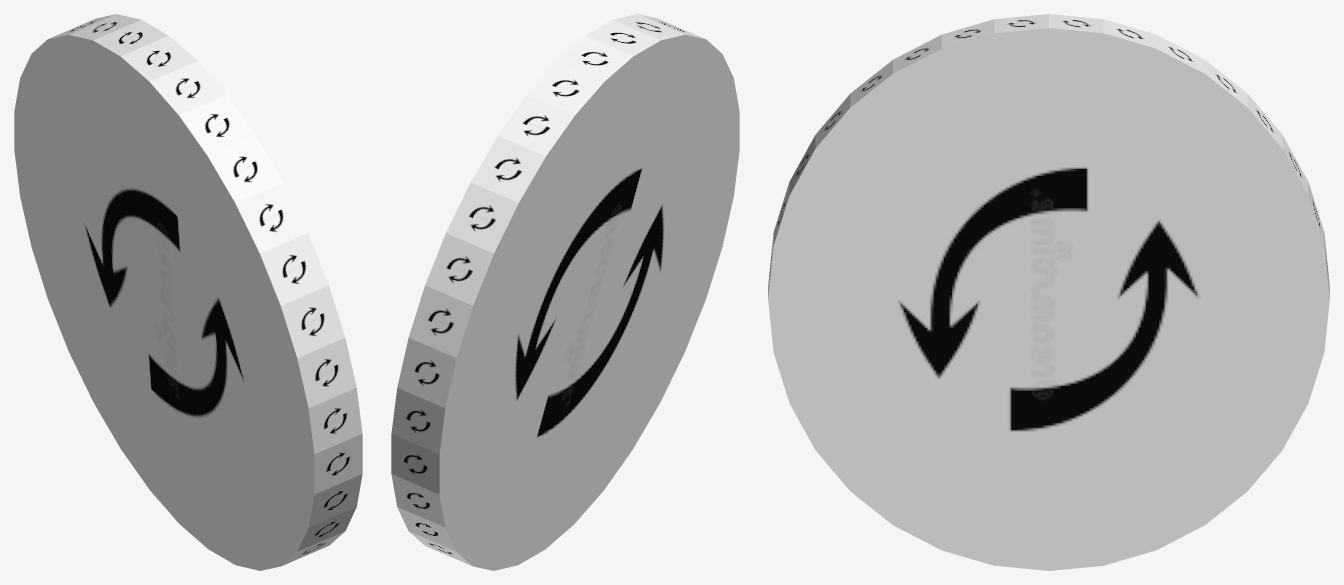
The model's file is revrse1.fbx.
3 views of the same model, side by side, from view 1: azimuth 30°, elevation 25°; view 2: azimuth 150°, elevation 25°; view 3: azimuth 270°, elevation 25° (orthographic). The views are drawn at different scales.
Visible parts, largest first — view 1: Cylinder; view 2: Cylinder; view 3: Cylinder.
Part boxes in pixels (bbox=[...]): Cylinder: bbox=[14, 14, 362, 570]; Cylinder: bbox=[391, 14, 739, 570]; Cylinder: bbox=[768, 14, 1329, 570].
Size of the model in its own units: 43.17 by 159 by 158.
